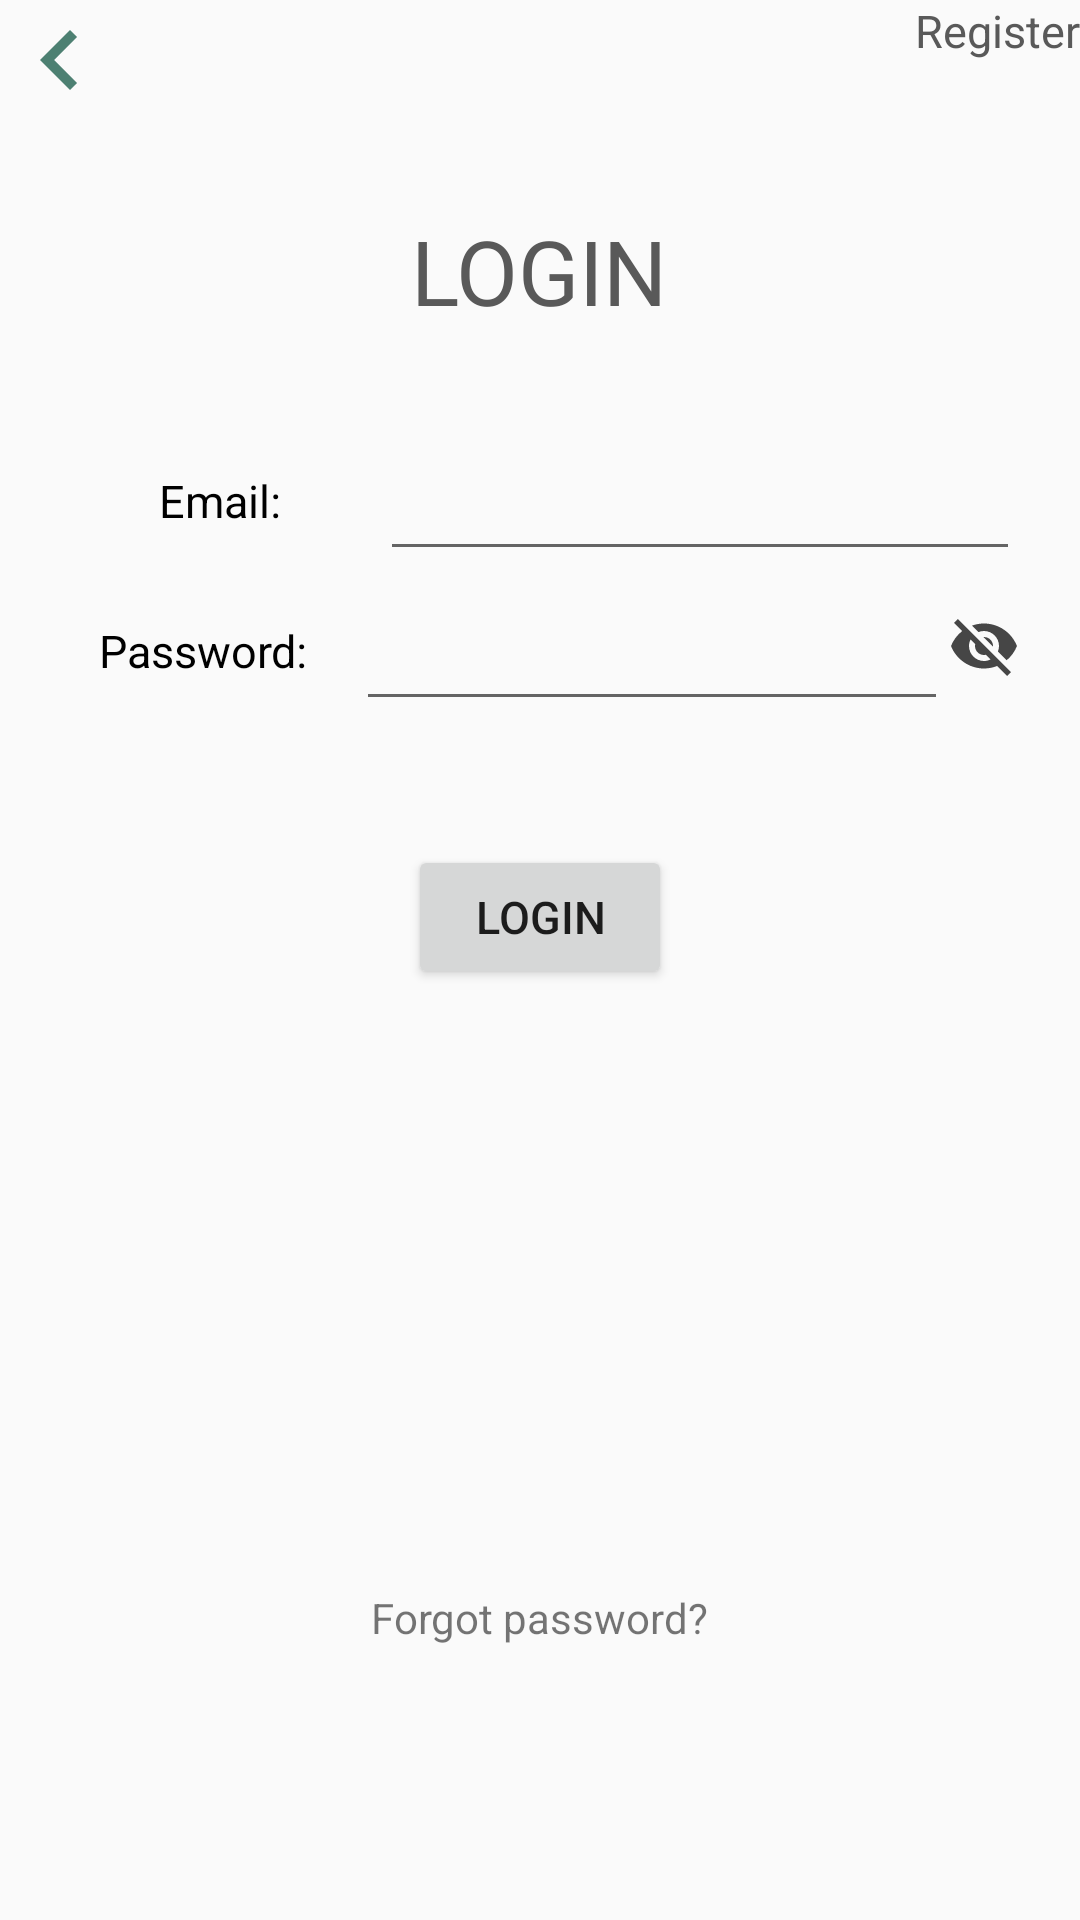

Named icons in this screenshot (1080*1920) and their centers, (x,y):
keyboard arrow left: (58,60)
visibility off: (984,647)
